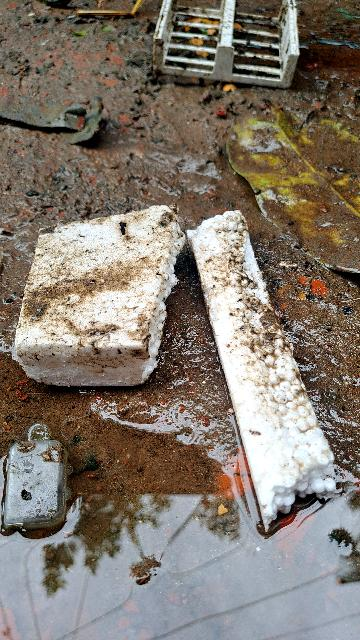cocksheet: (10, 188, 341, 533)
